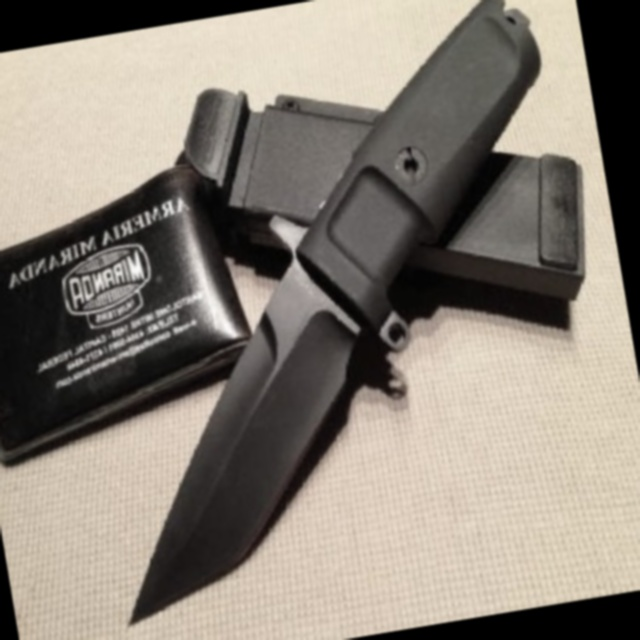Sharp-Object: (37, 0, 620, 626)
